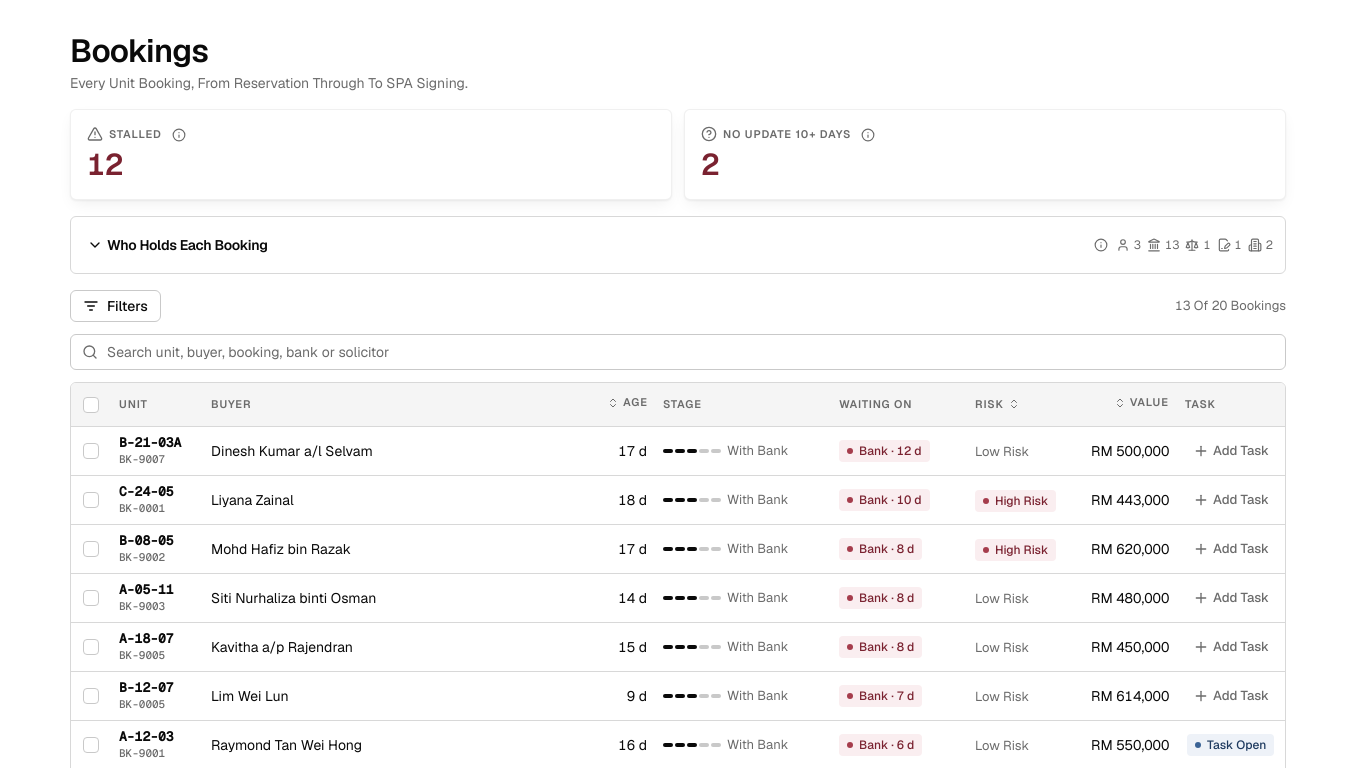
Test: BookingsPage › searches unit, buyer and booking id and removes the duplicate Add Booking entry point
Check: the text "BK-9001" is shown, box 119,746 -> 165,760
In the field named "Search bookings": (678, 352) 70,334 -> 1286,370, type "Raymond Tan"
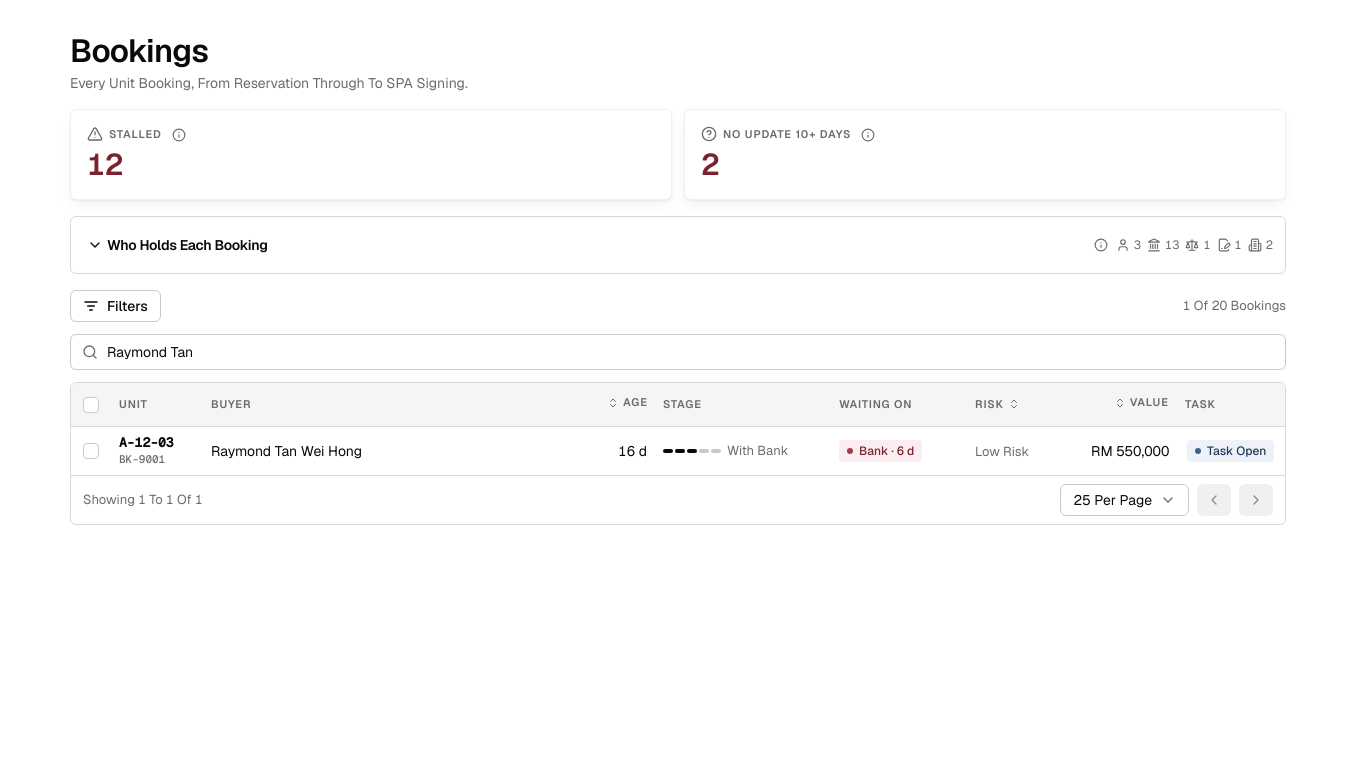
Check: the text "BK-9001" is shown, box 119,452 -> 165,466
Check: the text "BK-9007" is gone
Replace the text in the field named "Search bookings" with "does not match": (678, 352) 70,334 -> 1286,370
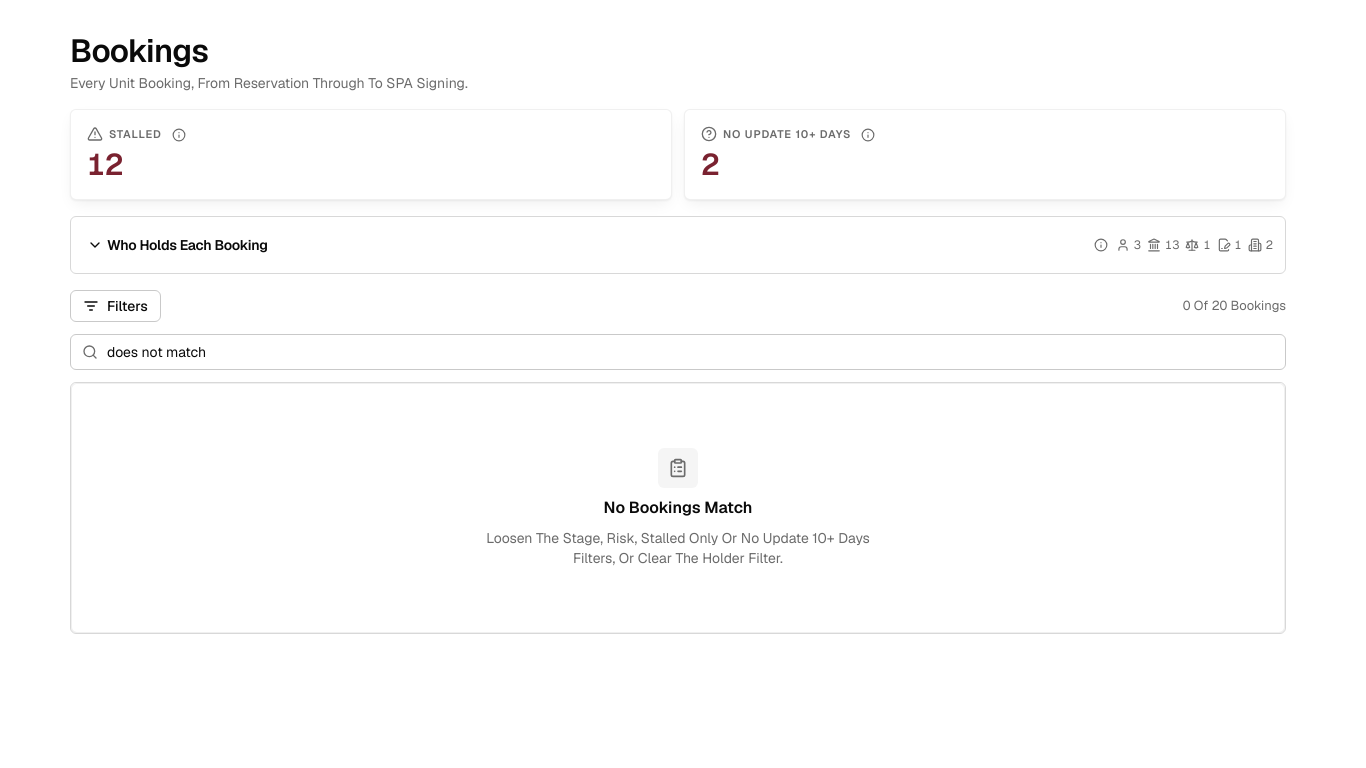
Check: the text "BK-9001" is gone
